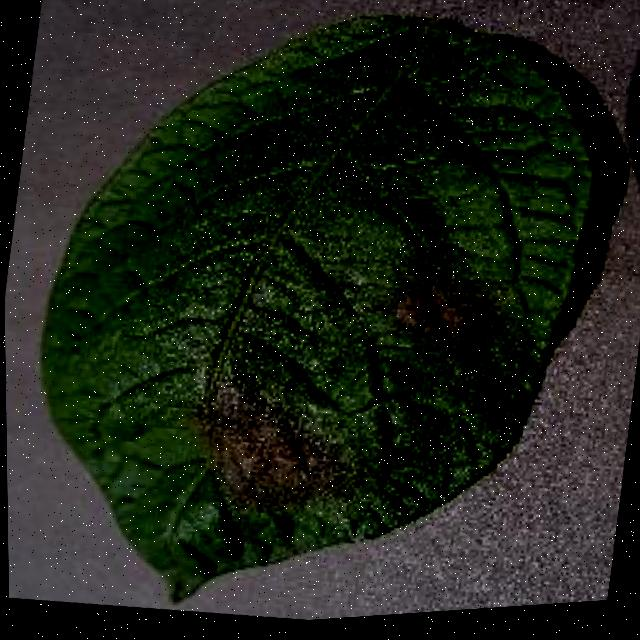Late_blight: (164, 348, 379, 543), (358, 246, 521, 376)
